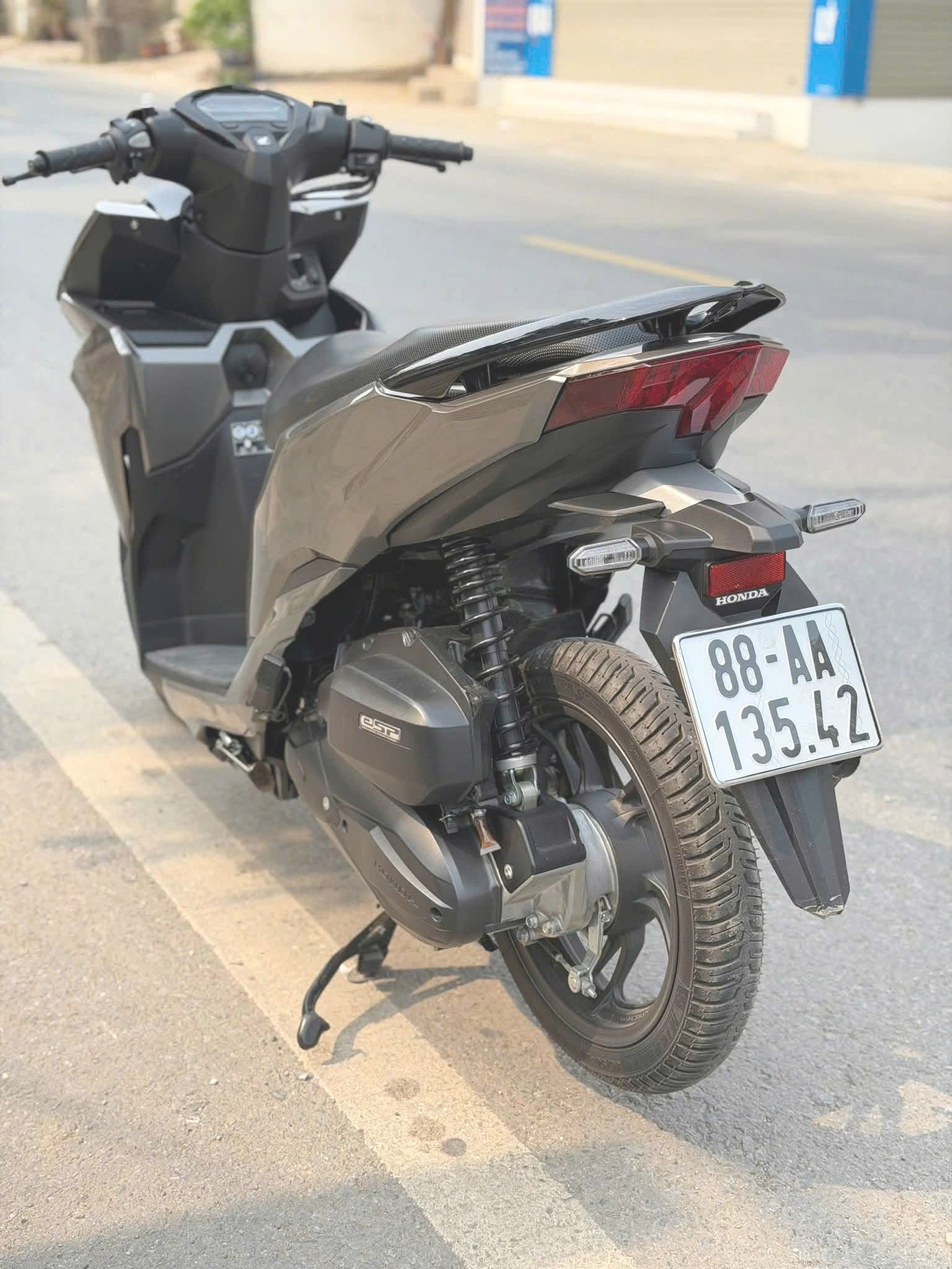Bien-so: (667, 560, 889, 756)
